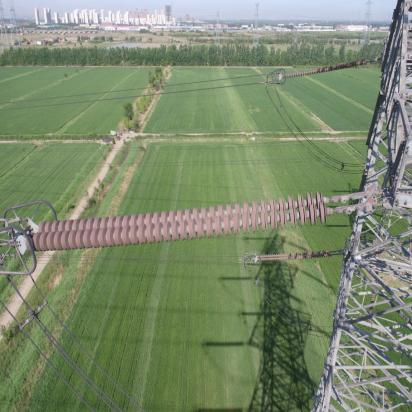insulator: (21, 189, 359, 253), (257, 250, 339, 263)
